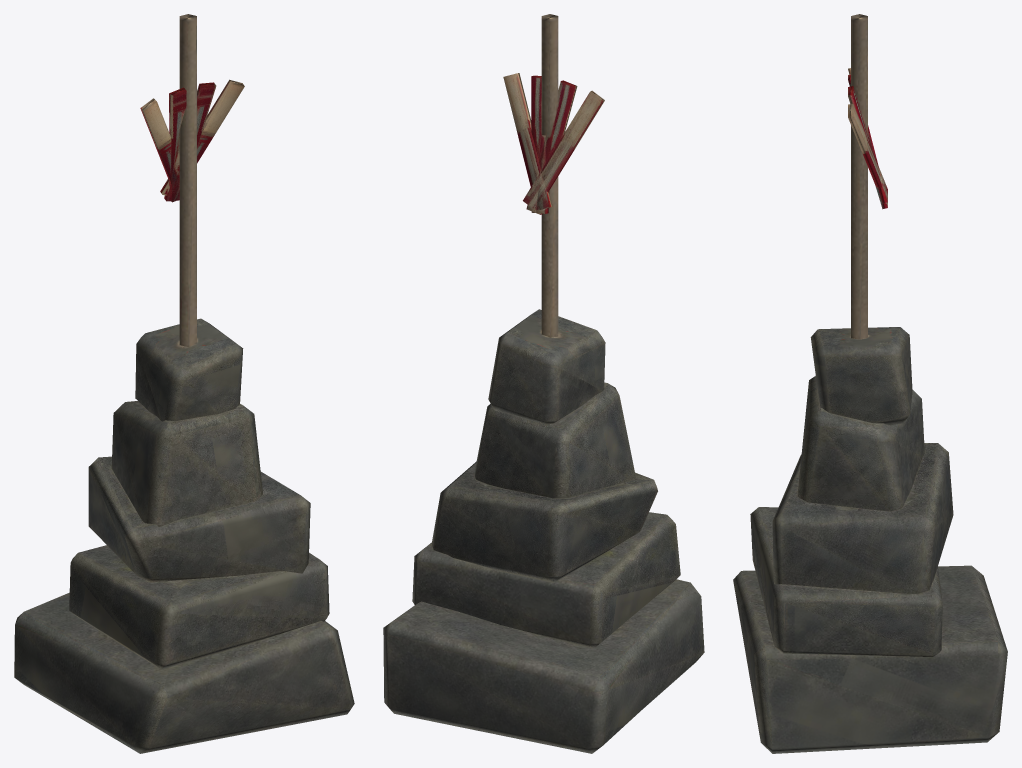
Rendered from ovoo_cairn.glb.
3 renders of one model, left to right at view 1: azimuth 30°, elevation 25°; view 2: azimuth 150°, elevation 25°; view 3: azimuth 270°, elevation 25°, orthographic. The views are drawn at different scales.
Visible parts, largest first — view 1: ovoo_cairn; view 2: ovoo_cairn; view 3: ovoo_cairn.
Boxes of the visible parts, <box> form: ovoo_cairn: <box>14,14,354,753</box>; ovoo_cairn: <box>383,14,704,753</box>; ovoo_cairn: <box>733,14,1007,753</box>.
Size of the model in its own units: 0.9722 by 2.69 by 0.9859.
Materials: 1 (1 with a texture image).
